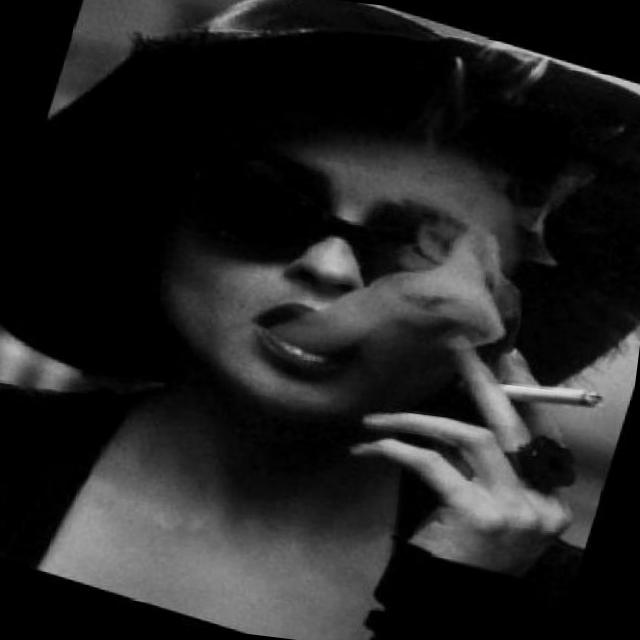smoke: (483, 356, 614, 430)
